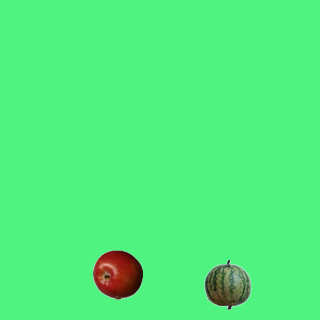Apple Braeburn: (92, 249, 142, 299)
Watermelon: (202, 259, 252, 309)
